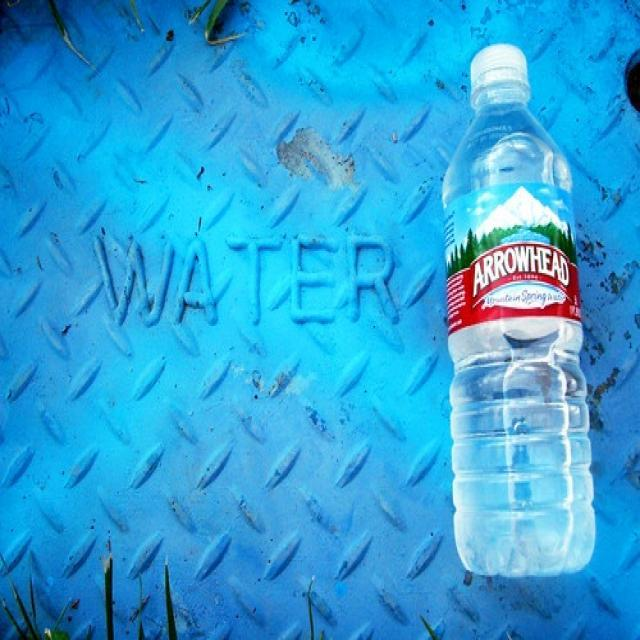plastic_bottle: (442, 44, 595, 578)
